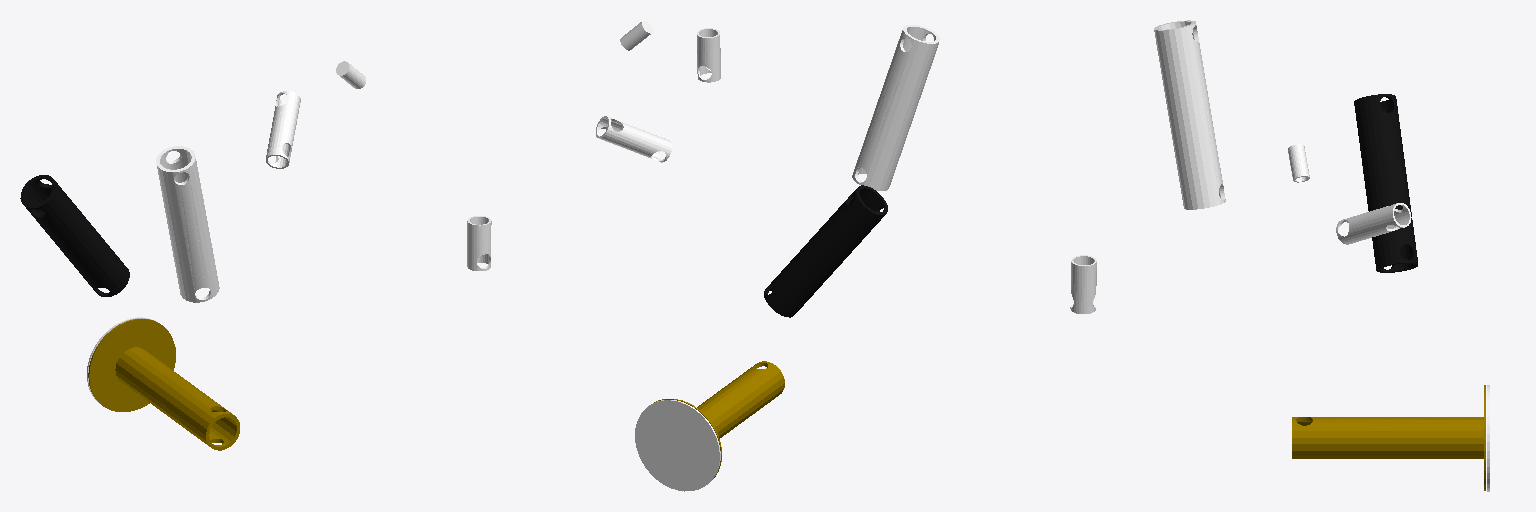
The robot description file, URDF, robot "revac stimulation":
<?xml version="1.0" encoding="utf-8"?>
<!-- This URDF was automatically created by SolidWorks to URDF Exporter! Originally created by [author] ([email redacted]) 
     Commit Version: 1.6.0-4-g7f85cfe  Build Version: 1.6.7995.38578
     For more information, please see http://wiki.ros.org/sw_urdf_exporter -->
<robot
  name="revac stimulation">
  <link
    name="base_link">
    <inertial>
      <origin
        xyz="-2.25327892239033E-19 7.88045267673459E-19 -0.0100000000000001"
        rpy="0 0 0" />
      <mass
        value="2.10094008708817" />
      <inertia
        ixx="0.0328446966948118"
        ixy="-3.08150586211115E-20"
        ixz="-1.9578173228708E-17"
        iyy="0.0328446966948118"
        iyz="-1.26954068177143E-18"
        izz="0.0656543777215054" />
    </inertial>
    <visual>
      <origin
        xyz="0 0 0"
        rpy="0 0 0" />
      <geometry>
        <mesh
          filename="package://revac stimulation/meshes/base_link.STL" />
      </geometry>
      <material
        name="">
        <color
          rgba="1 1 1 0.32" />
      </material>
    </visual>
    <collision>
      <origin
        xyz="0 0 0"
        rpy="0 0 0" />
      <geometry>
        <mesh
          filename="package://revac stimulation/meshes/base_link.STL" />
      </geometry>
    </collision>
  </link>
  <link
    name="link_1">
    <inertial>
      <origin
        xyz="2.2723E-07 -5.1802E-08 0.3784"
        rpy="0 0 0" />
      <mass
        value="12.771" />
      <inertia
        ixx="1.1288"
        ixy="-1.3688E-06"
        ixz="-9.007E-07"
        iyy="1.1271"
        iyz="3.6139E-07"
        izz="0.15316" />
    </inertial>
    <visual>
      <origin
        xyz="0 0 0"
        rpy="0 0 0" />
      <geometry>
        <mesh
          filename="package://revac stimulation/meshes/link_1.STL" />
      </geometry>
      <material
        name="">
        <color
          rgba="0.64706 0.51765 0 1" />
      </material>
    </visual>
    <collision>
      <origin
        xyz="0 0 0"
        rpy="0 0 0" />
      <geometry>
        <mesh
          filename="package://revac stimulation/meshes/link_1.STL" />
      </geometry>
    </collision>
  </link>
  <joint
    name="joint_1"
    type="continuous">
    <origin
      xyz="0 0 0"
      rpy="1.5708 0.84289 0" />
    <parent
      link="base_link" />
    <child
      link="link_1" />
    <axis
      xyz="0 0 1" />
  </joint>
  <link
    name="link_2">
    <inertial>
      <origin
        xyz="-0.3815 7.8639E-07 -4.6615E-07"
        rpy="0 0 0" />
      <mass
        value="10.002" />
      <inertia
        ixx="0.082045"
        ixy="-2.0367E-07"
        ixz="5.3319E-08"
        iyy="0.62308"
        iyz="-1.1786E-06"
        izz="0.62631" />
    </inertial>
    <visual>
      <origin
        xyz="0 0 0"
        rpy="0 0 0" />
      <geometry>
        <mesh
          filename="package://revac stimulation/meshes/link_2.STL" />
      </geometry>
      <material
        name="">
        <color
          rgba="1 1 1 0.32" />
      </material>
    </visual>
    <collision>
      <origin
        xyz="0 0 0"
        rpy="0 0 0" />
      <geometry>
        <mesh
          filename="package://revac stimulation/meshes/link_2.STL" />
      </geometry>
    </collision>
  </link>
  <joint
    name="joint_2"
    type="continuous">
    <origin
      xyz="-0.21 0.36186 1.5217"
      rpy="-1.5708 -1.0767 1.5708" />
    <parent
      link="link_1" />
    <child
      link="link_2" />
    <axis
      xyz="0 0 1" />
    <limit
      lower="-1.574"
      upper="1.574"
      effort="0"
      velocity="0" />
  </joint>
  <link
    name="link_3">
    <inertial>
      <origin
        xyz="-0.35625 -7.0544E-07 2.9644E-06"
        rpy="0 0 0" />
      <mass
        value="9.3902" />
      <inertia
        ixx="0.077033"
        ixy="-5.6769E-07"
        ixz="-9.5696E-07"
        iyy="0.52154"
        iyz="-1.0923E-06"
        izz="0.52477" />
    </inertial>
    <visual>
      <origin
        xyz="0 0 0"
        rpy="0 0 0" />
      <geometry>
        <mesh
          filename="package://revac stimulation/meshes/link_3.STL" />
      </geometry>
      <material
        name="">
        <color
          rgba="0.1098 0.1098 0.1098 1" />
      </material>
    </visual>
    <collision>
      <origin
        xyz="0 0 0"
        rpy="0 0 0" />
      <geometry>
        <mesh
          filename="package://revac stimulation/meshes/link_3.STL" />
      </geometry>
    </collision>
  </link>
  <joint
    name="joint_3"
    type="continuous">
    <origin
      xyz="-0.56816 0.42995 -0.21"
      rpy="0 0 2.4938" />
    <parent
      link="link_2" />
    <child
      link="link_3" />
    <axis
      xyz="0 0 1" />
  </joint>
  <link
    name="link_4">
    <inertial>
      <origin
        xyz="-0.1465 4.2537E-06 5.5927E-06"
        rpy="0 0 0" />
      <mass
        value="1.2198" />
      <inertia
        ixx="0.0037245"
        ixy="1.6306E-07"
        ixz="6.5008E-08"
        iyy="0.015462"
        iyz="-5.9823E-08"
        izz="0.015463" />
    </inertial>
    <visual>
      <origin
        xyz="0 0 0"
        rpy="0 0 0" />
      <geometry>
        <mesh
          filename="package://revac stimulation/meshes/link_4.STL" />
      </geometry>
      <material
        name="">
        <color
          rgba="1 1 1 0.32" />
      </material>
    </visual>
    <collision>
      <origin
        xyz="0 0 0"
        rpy="0 0 0" />
      <geometry>
        <mesh
          filename="package://revac stimulation/meshes/link_4.STL" />
      </geometry>
    </collision>
  </link>
  <joint
    name="joint_4"
    type="continuous">
    <origin
      xyz="0.047395 -0.28914 -0.17"
      rpy="0 0 -1.4083" />
    <parent
      link="link_3" />
    <child
      link="link_4" />
    <axis
      xyz="0 0 1" />
    <limit
      lower="-1.574"
      upper="1.574"
      effort="0"
      velocity="0" />
  </joint>
  <link
    name="link_5">
    <inertial>
      <origin
        xyz="0.085377 -2.1812E-06 7.1936E-07"
        rpy="0 0 0" />
      <mass
        value="0.89166" />
      <inertia
        ixx="0.0025705"
        ixy="-3.0153E-08"
        ixz="-1.2401E-08"
        iyy="0.005179"
        iyz="-9.3489E-09"
        izz="0.005431" />
    </inertial>
    <visual>
      <origin
        xyz="0 0 0"
        rpy="0 0 0" />
      <geometry>
        <mesh
          filename="package://revac stimulation/meshes/link_5.STL" />
      </geometry>
      <material
        name="">
        <color
          rgba="1 1 1 0.32" />
      </material>
    </visual>
    <collision>
      <origin
        xyz="0 0 0"
        rpy="0 0 0" />
      <geometry>
        <mesh
          filename="package://revac stimulation/meshes/link_5.STL" />
      </geometry>
    </collision>
  </link>
  <joint
    name="joint_5"
    type="continuous">
    <origin
      xyz="0 -0.13 0"
      rpy="1.5708 -0.050805 0" />
    <parent
      link="link_4" />
    <child
      link="link_5" />
    <axis
      xyz="0 0 1" />
  </joint>
  <link
    name="link_6">
    <inertial>
      <origin
        xyz="2.2204E-16 -1.1102E-16 0.085579"
        rpy="0 0 0" />
      <mass
        value="0.40674" />
      <inertia
        ixx="0.0012031"
        ixy="5.421E-20"
        ixz="8.1527E-20"
        iyy="0.0012031"
        iyz="2.666E-19"
        izz="0.00048422" />
    </inertial>
    <visual>
      <origin
        xyz="0 0 0"
        rpy="0 0 0" />
      <geometry>
        <mesh
          filename="package://revac stimulation/meshes/link_6.STL" />
      </geometry>
      <material
        name="">
        <color
          rgba="1 1 1 0.32" />
      </material>
    </visual>
    <collision>
      <origin
        xyz="0 0 0"
        rpy="0 0 0" />
      <geometry>
        <mesh
          filename="package://revac stimulation/meshes/link_6.STL" />
      </geometry>
    </collision>
  </link>
  <joint
    name="joint_6"
    type="continuous">
    <origin
      xyz="0.080883 0 0"
      rpy="1.5708 0.61816 1.5708" />
    <parent
      link="link_5" />
    <child
      link="link_6" />
    <axis
      xyz="0 0 1" />
  </joint>
</robot>

--- What the picture shows (computed from the rendered views, not written in the file) ---
The picture shows the robot from 3 angles, left to right: view 1: azimuth 30°, elevation 25°; view 2: azimuth 150°, elevation 25°; view 3: azimuth 270°, elevation 25°; orthographic projection.
Robot: revac stimulation — 7 links, 6 joints (6 continuous); root link base_link; default pose: every joint at zero.
Links seen in each view (by area): view 1: link_1, link_2, link_3, link_4, link_5; view 2: link_2, base_link, link_3, link_1, link_4, link_5, link_6; view 3: link_1, link_2, link_3, link_4, link_5, link_6.
Link boxes in pixels (x1,y1,x2,y2): link_1: (88,319,239,450); link_2: (156,146,219,302); link_3: (20,175,129,296); link_4: (266,91,300,168); link_5: (467,216,491,270); link_2: (852,25,939,190); base_link: (635,400,720,491); link_3: (764,185,887,317); link_1: (654,361,784,477); link_4: (596,116,671,162); link_5: (697,28,720,82); link_6: (620,21,652,50); link_1: (1292,385,1485,490); link_2: (1154,20,1225,209); link_3: (1354,94,1417,272); link_4: (1336,203,1411,244); link_5: (1070,255,1096,313); link_6: (1288,144,1309,182).
Bounding box of the posed robot: 1.89 × 1.96 × 2.14 m (x, y, z).
Meshes: 7 distinct files referenced, 7 mesh visuals loaded (7 binary STL).